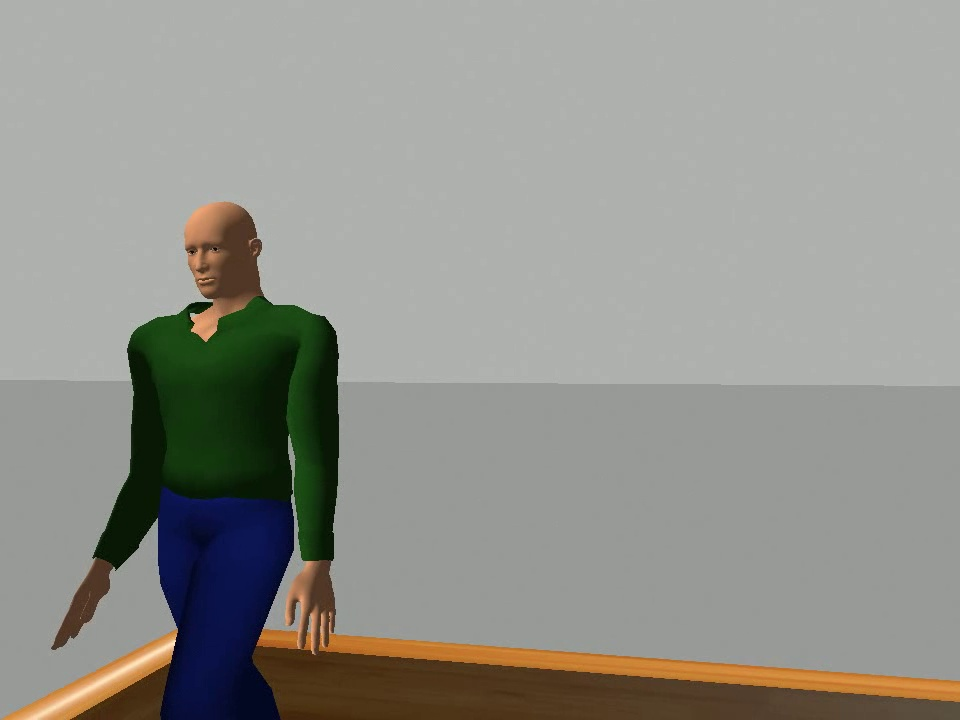person: (47, 194, 346, 720)
